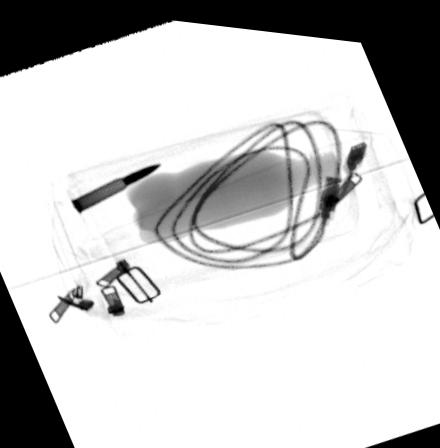Bullet: (70, 160, 165, 214)
